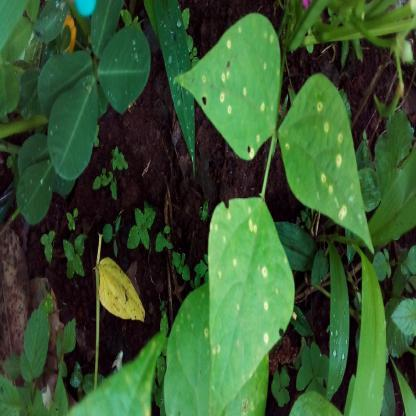Beans_Rust: (209, 195, 296, 416), (280, 76, 375, 252), (170, 11, 276, 160)
